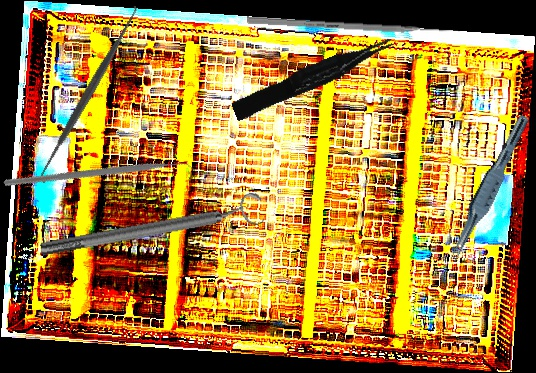Chopper: (2, 83, 200, 273)
Fixation Ring: (37, 190, 266, 266)
Pusher: (246, 16, 461, 36)
Spatula Surgical: (29, 2, 148, 186)
Tissue Forceps: (228, 34, 399, 122), (445, 110, 531, 267)
